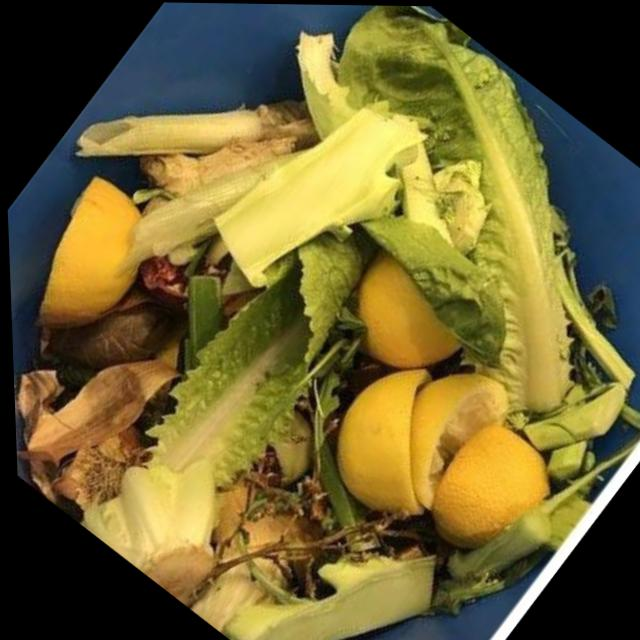organic: (256, 8, 632, 574), (55, 231, 423, 602), (331, 350, 623, 604), (50, 100, 318, 298), (168, 460, 435, 639), (215, 108, 422, 285), (16, 301, 184, 515), (12, 148, 151, 326), (78, 456, 216, 603)
